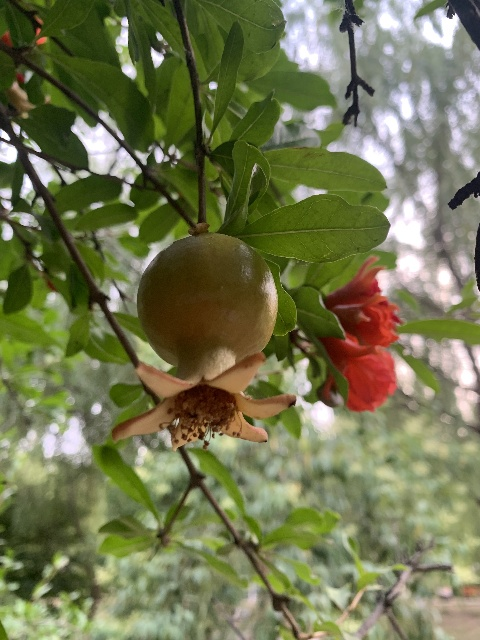early-fruit: (109, 232, 297, 451)
flower: (318, 334, 397, 412), (322, 255, 395, 338), (330, 294, 402, 351)
